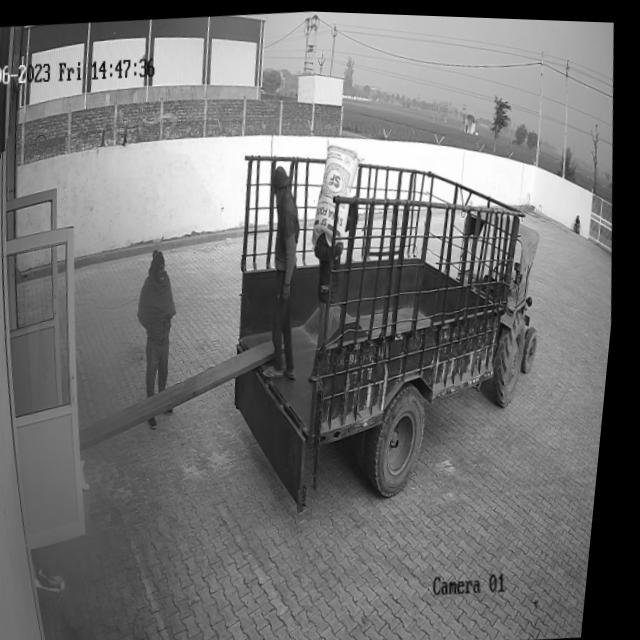sack: (308, 138, 371, 251)
